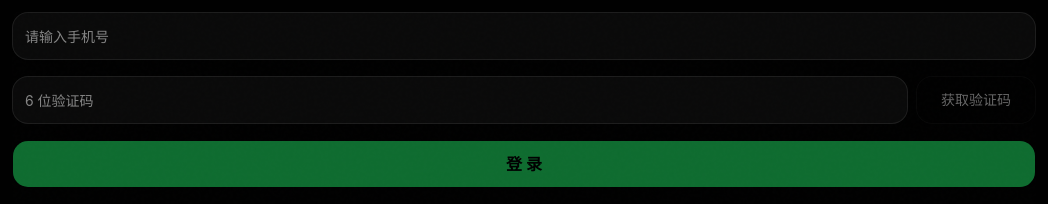
PhoneLoginForm › captcha validation › strips non-digits from captcha
The image size is (1048, 204).
Type "1a2b3c4d5e6f" into the field with placeholder "6 位验证码". click: (460, 100)
box: [12,76,908,124]
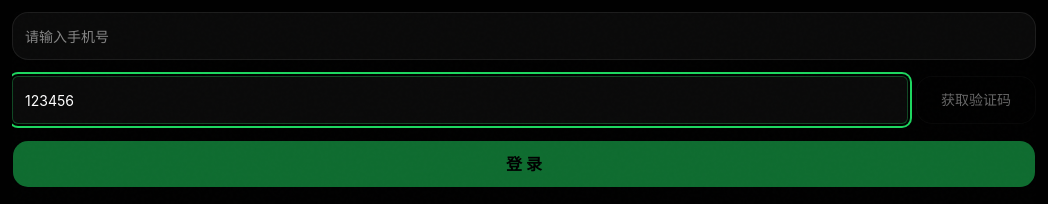
Now the field with placeholder "6 位验证码" holds "123456", box [12,76,908,124]
